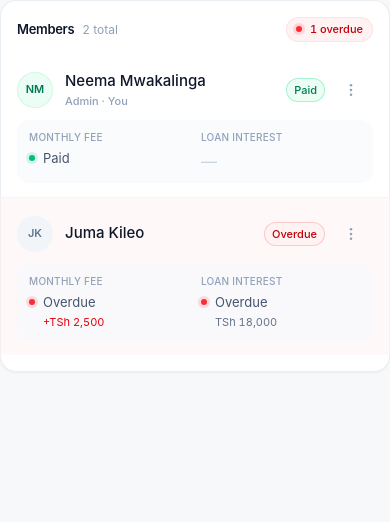
MemberGrid › offers the full action set for another member
Click the button named "Actions for Juma Kileo". click: point(351, 234)
box: [329,212,373,256]
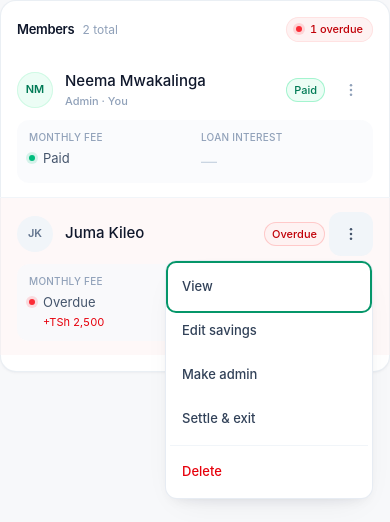
expect the menu item "View" is shown: met, box [182,278,213,294]
expect the menu item "Edit savings" is shown: met, box [170,308,368,352]
expect the menu item "Make admin" is shown: met, box [170,352,368,396]
